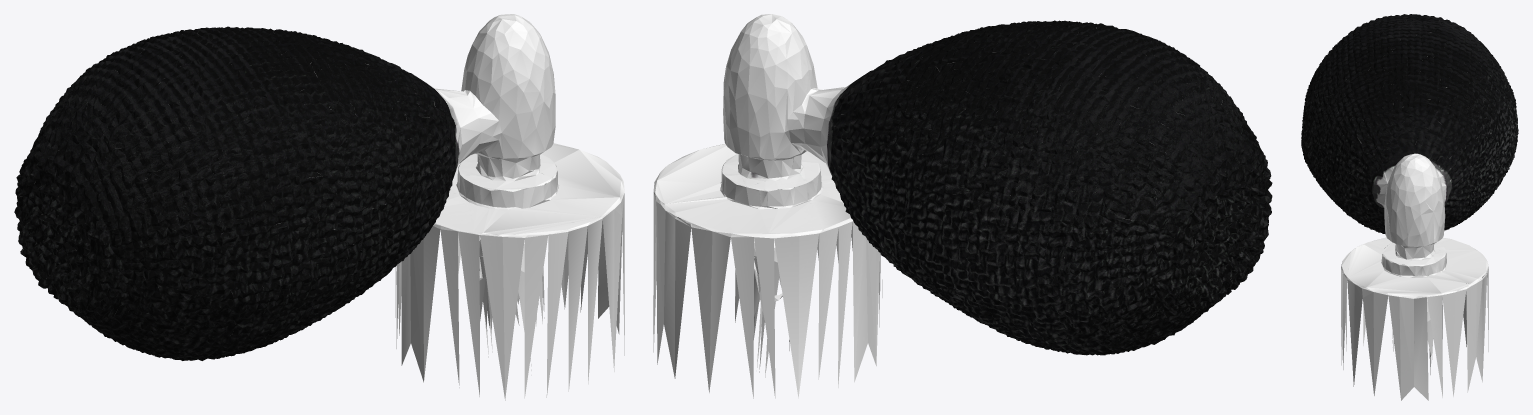
File: BB_ANSP_BULB_18415.glb
The picture shows the model from 3 angles, left to right: view 1: azimuth 30°, elevation 25°; view 2: azimuth 150°, elevation 25°; view 3: azimuth 270°, elevation 25°; orthographic projection. The views are drawn at different scales.
Visible parts, largest first — view 1: ANSP_BULB_ASM; view 2: ANSP_BULB_ASM; view 3: ANSP_BULB_ASM.
Boxes of the visible parts, left/top/right/bottom form: ANSP_BULB_ASM: left=14, top=14, right=624, bottom=400; ANSP_BULB_ASM: left=653, top=14, right=1272, bottom=398; ANSP_BULB_ASM: left=1301, top=14, right=1518, bottom=400.
Size of the model in its own units: 0.052 by 0.0362 by 0.027.
Materials: 1 (1 with a texture image).
